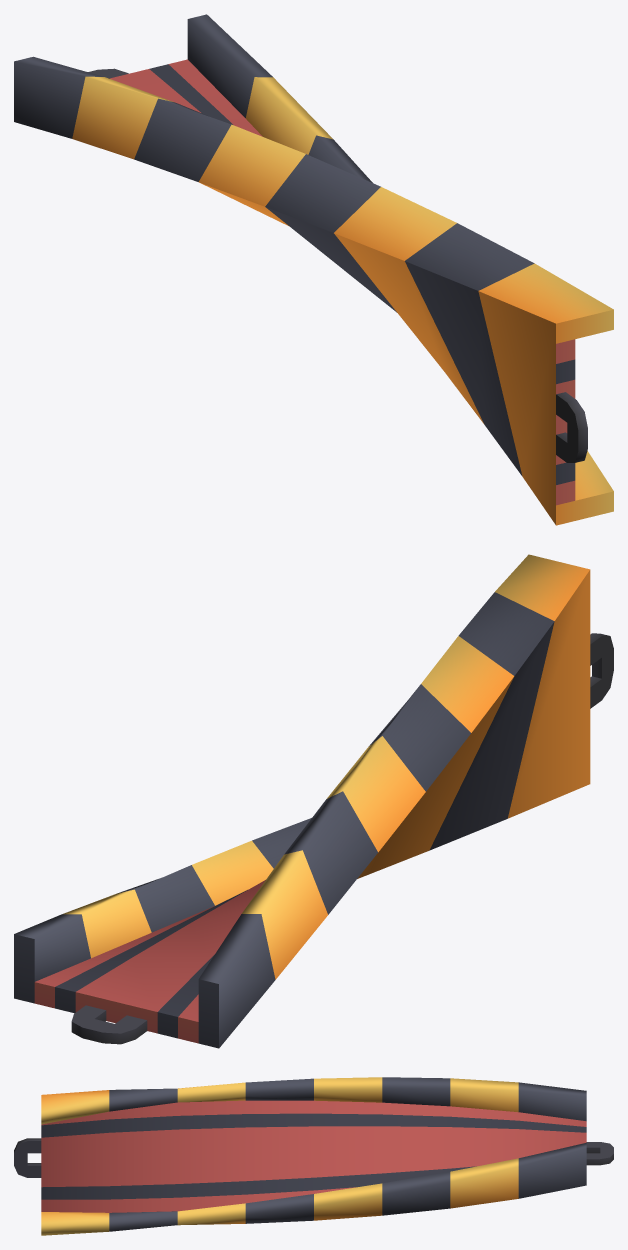
Rendered from track-road-narrow-straight-skew-left-side.fbx.
3 views of the same model, one above another, from view 1: azimuth 30°, elevation 25°; view 2: azimuth 150°, elevation 25°; view 3: azimuth 270°, elevation 25° (orthographic). The views are drawn at different scales.
Visible parts, largest first — view 1: track-road-narrow-straight-skew-left-side; view 2: track-road-narrow-straight-skew-left-side; view 3: track-road-narrow-straight-skew-left-side.
Boxes of the visible parts, x1=… form: track-road-narrow-straight-skew-left-side: x1=14, y1=14, x2=613, y2=525; track-road-narrow-straight-skew-left-side: x1=14, y1=554, x2=613, y2=1048; track-road-narrow-straight-skew-left-side: x1=14, y1=1077, x2=613, y2=1235.
Size of the model in its own units: 108 by 108 by 440.
